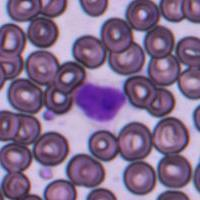L: (72, 78, 128, 127)
